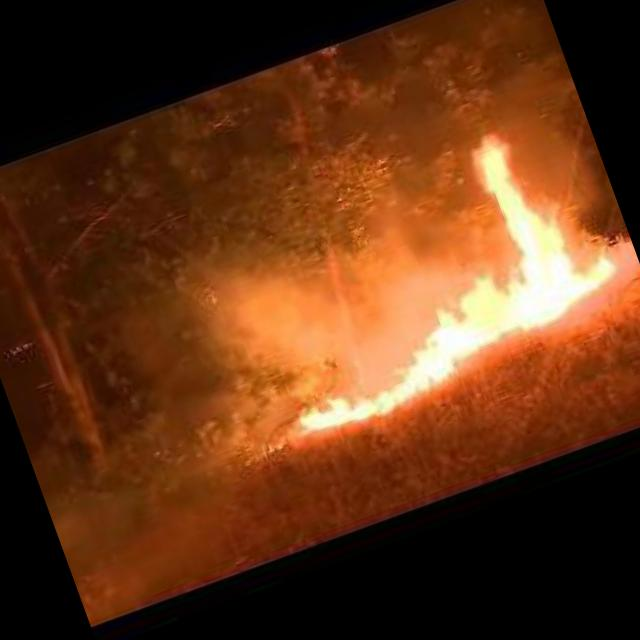fire: (224, 100, 640, 453)
smoke: (162, 194, 460, 430)
